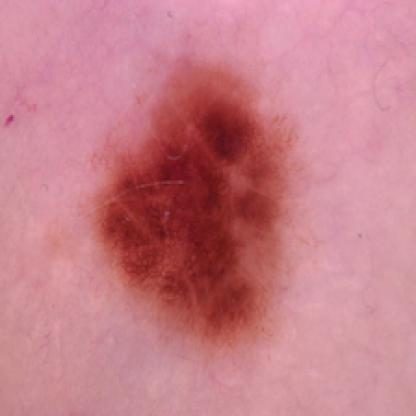benign: (97, 61, 295, 340)
